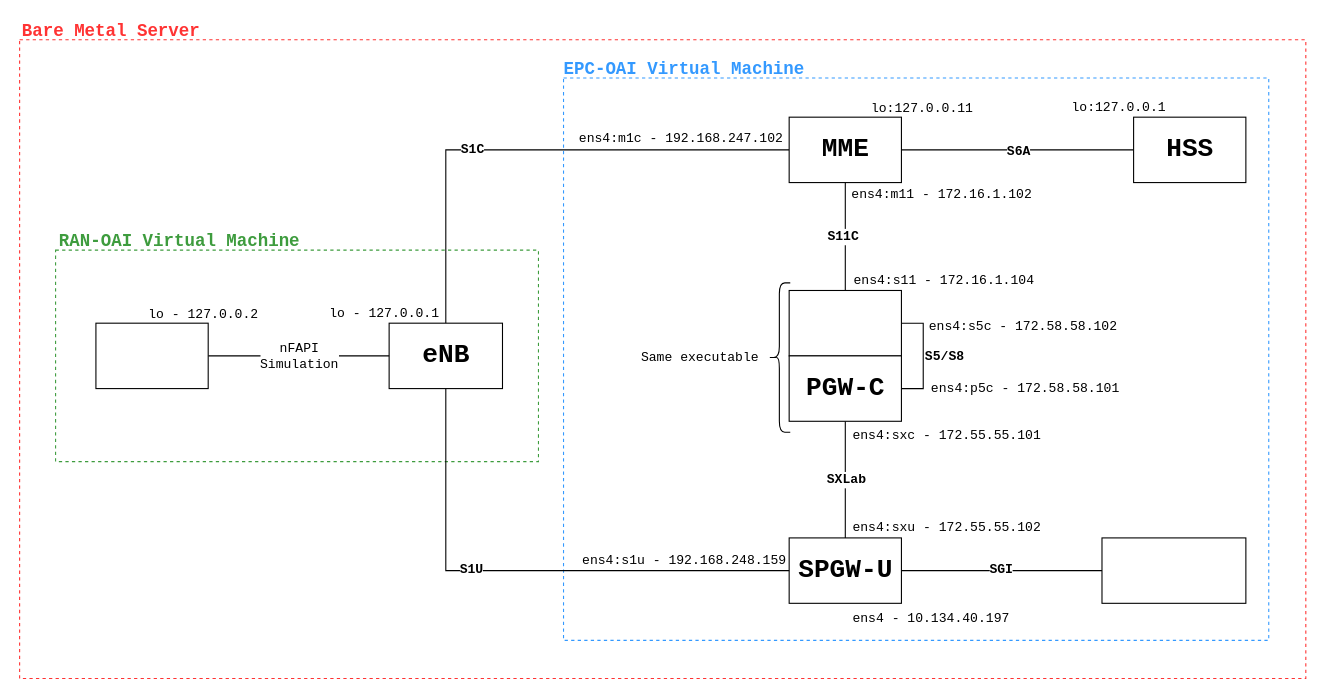
The diagram is 1324 pixels wide and 698 high, and some of its shapes have lost their labels. The shapes that lost their labels are listed below. From the top down, each one's box as (x1, y1, x2, y2) in pixels, then its label:
(788, 289, 901, 356): SGW-C
(95, 322, 208, 389): UE
(1101, 537, 1246, 603): Internet
